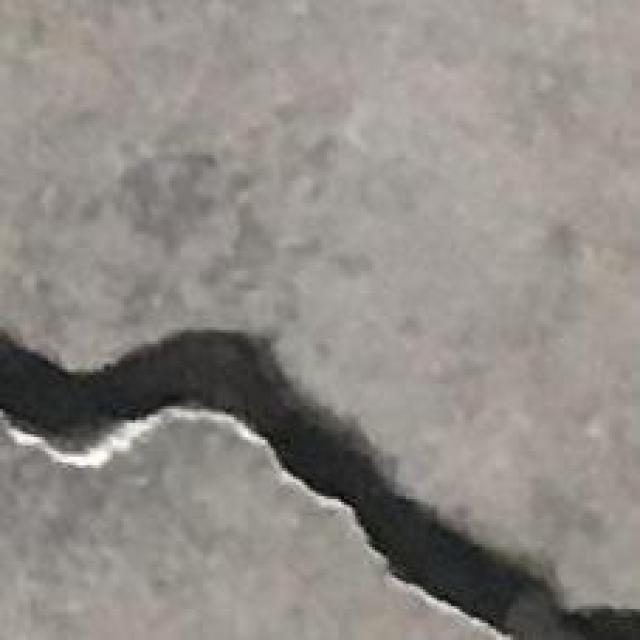Crack: (17, 299, 631, 629)
